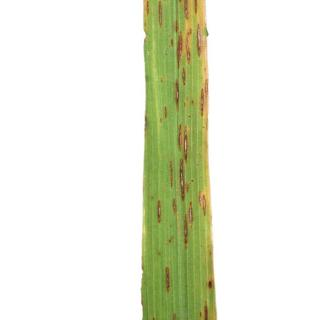Bercak-Cokelat-Sempit: (175, 76, 224, 124), (172, 19, 215, 68), (141, 1, 169, 28), (181, 120, 185, 253), (194, 190, 210, 223), (155, 198, 165, 228), (165, 263, 173, 297), (195, 301, 209, 320), (205, 272, 214, 295)
